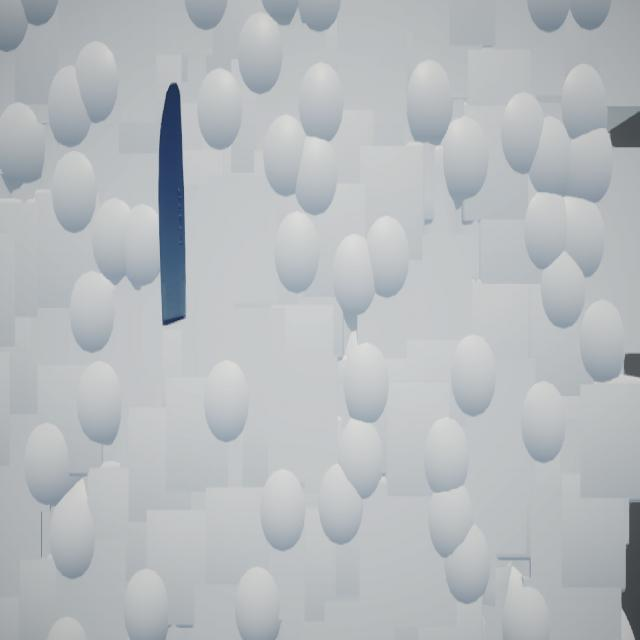top_knife: (160, 83, 188, 327)
